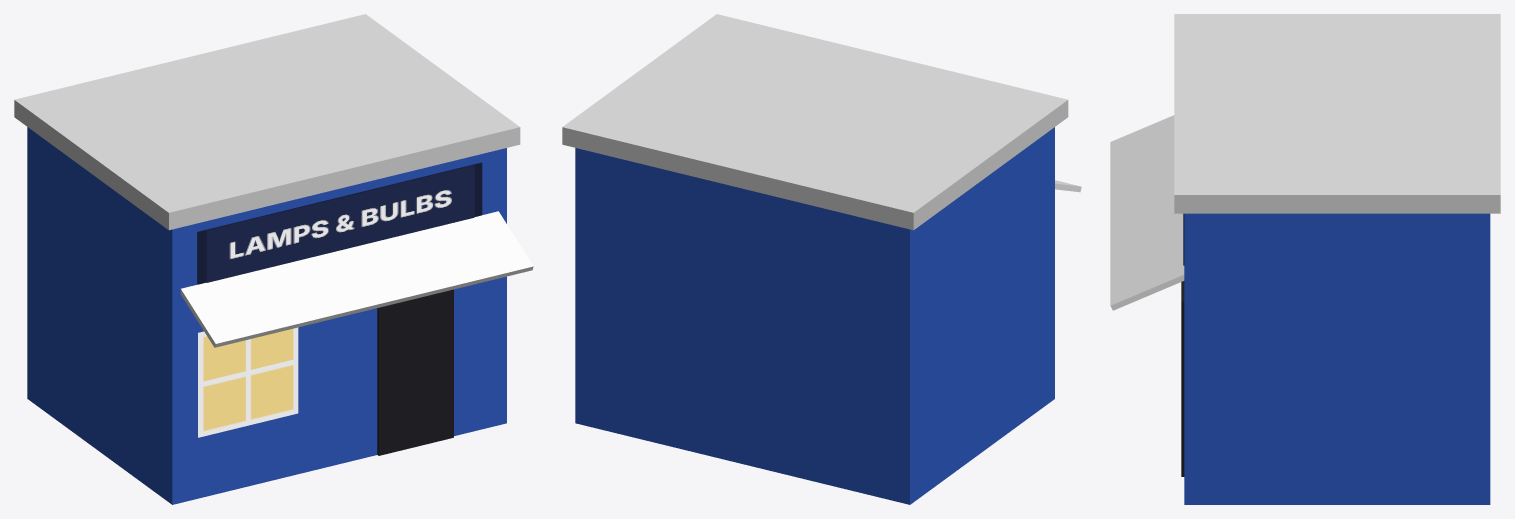
Rendered from shop_lamps.glb.
The picture shows the model from 3 angles, left to right: view 1: azimuth 30°, elevation 25°; view 2: azimuth 150°, elevation 25°; view 3: azimuth 270°, elevation 25°; orthographic projection. The views are drawn at different scales.
Parts seen in each view (by area): view 1: shop_lamps; view 2: shop_lamps; view 3: shop_lamps.
Boxes of the visible parts, x1=… form: shop_lamps: x1=14, y1=14, x2=533, y2=504; shop_lamps: x1=562, y1=14, x2=1081, y2=504; shop_lamps: x1=1110, y1=14, x2=1500, y2=504.
Bounding box in the file's own units: 4.2 × 3.4 × 3.83.
7 materials, 2 textured.
